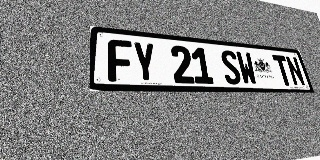1: (190, 47, 214, 84)
2: (170, 45, 195, 83)
F: (108, 39, 134, 82)
N: (285, 56, 306, 86)
S: (219, 50, 243, 85)
T: (272, 55, 294, 86)
W: (235, 51, 258, 85)
Y: (132, 41, 158, 83)
